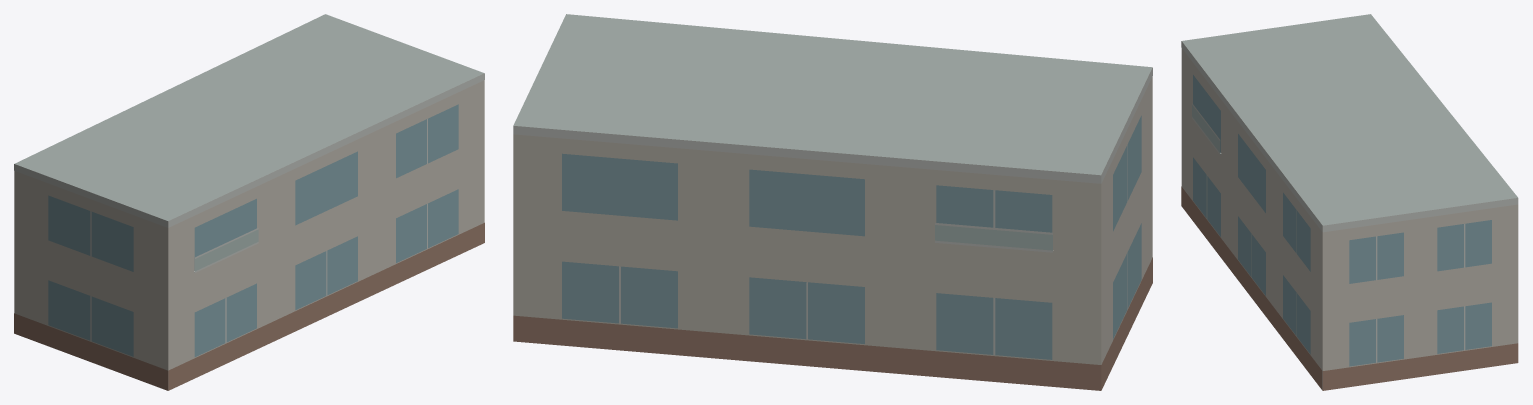
Rendered from survey-upis-32976920.glb.
3 views of the same model, side by side, from view 1: azimuth 30°, elevation 25°; view 2: azimuth 150°, elevation 25°; view 3: azimuth 270°, elevation 25° (orthographic). The views are drawn at different scales.
Visible parts, largest first — view 1: survey-upis-32976920.tmp; view 2: survey-upis-32976920.tmp; view 3: survey-upis-32976920.tmp.
Boxes of the visible parts, x1,y1,x2,y2 form: survey-upis-32976920.tmp: (14,14,484,390); survey-upis-32976920.tmp: (513,14,1152,390); survey-upis-32976920.tmp: (1181,14,1518,390).
Bounding box in the file's own units: 16.78 × 6.1 × 11.29.
